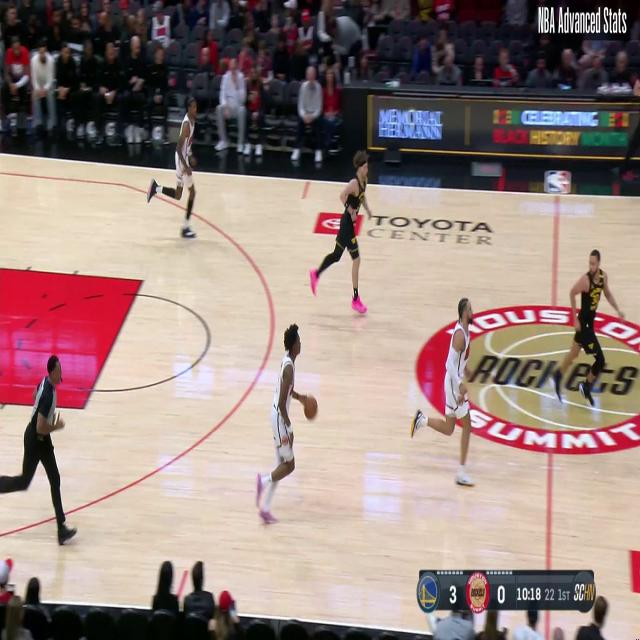ball: (301, 393, 325, 419), (303, 395, 317, 420)
judge: (0, 354, 78, 547)
player: (412, 297, 480, 479), (412, 297, 474, 491), (256, 323, 314, 524), (554, 246, 628, 401), (311, 152, 368, 313), (149, 102, 199, 236)
